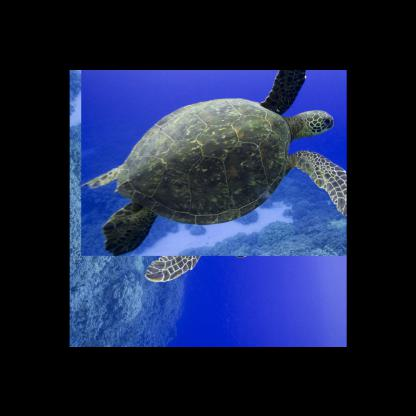turtle: (94, 68, 344, 268)
